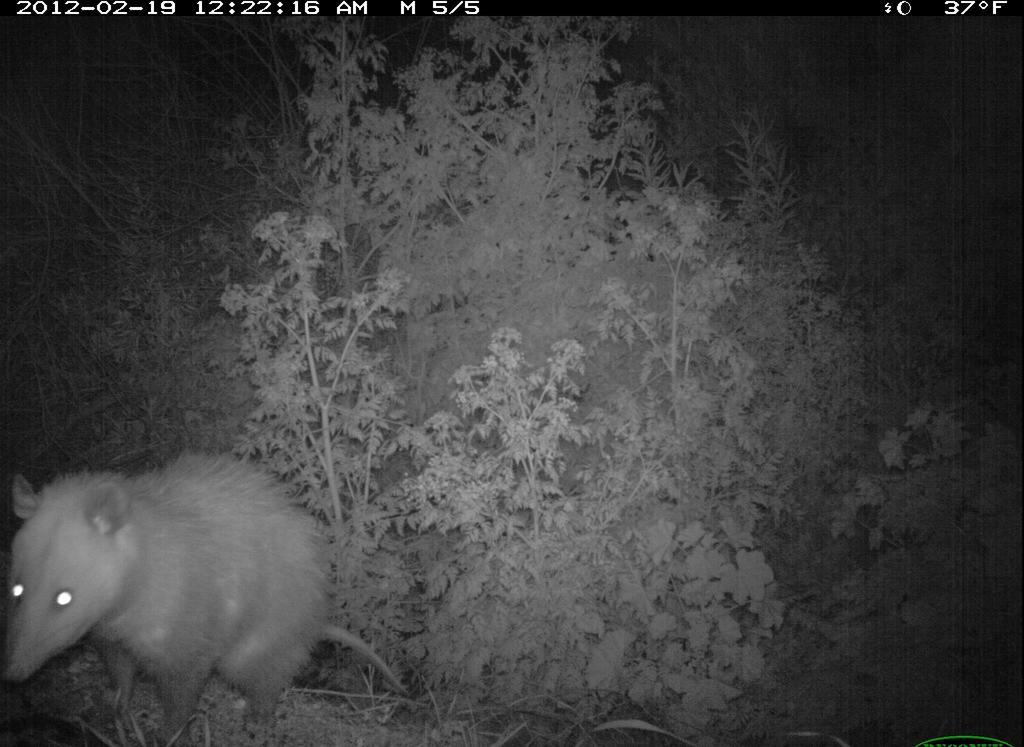opossum: (2, 451, 413, 745)
